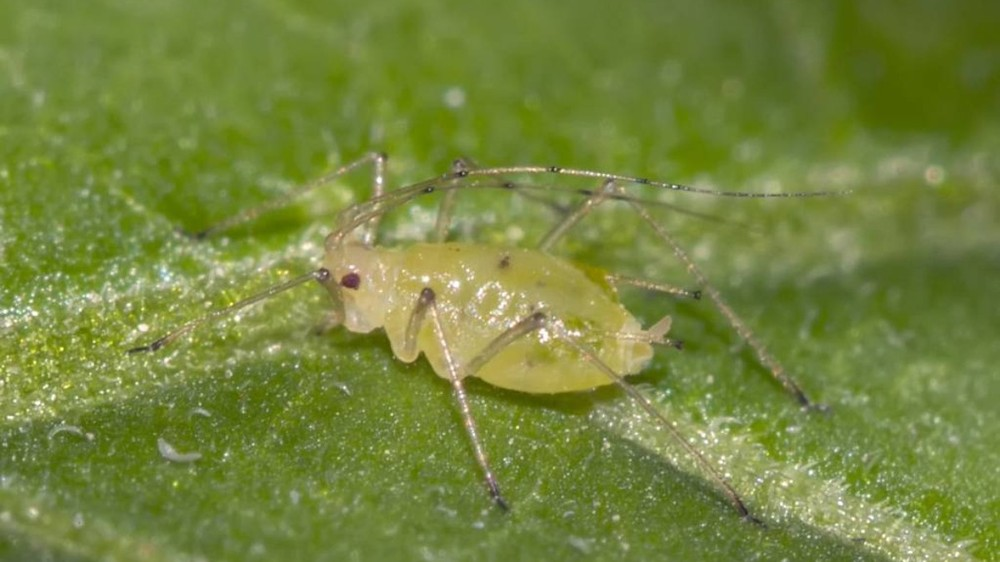Pulgon: (224, 155, 823, 523)
